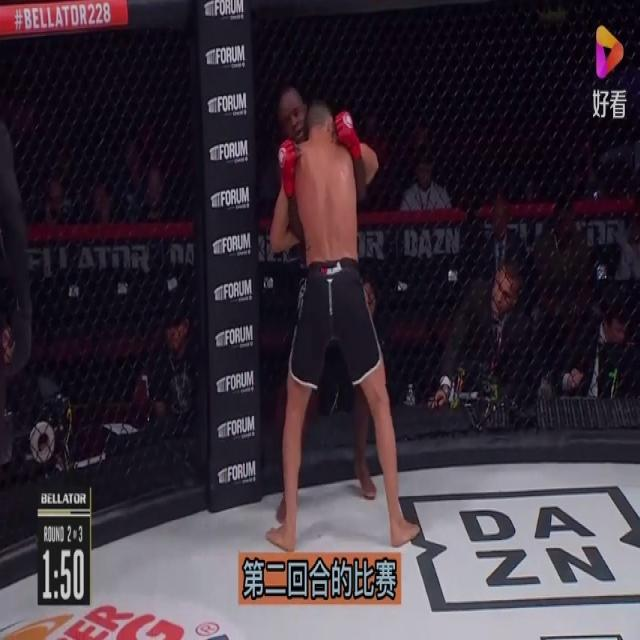fight: (259, 78, 410, 562)
